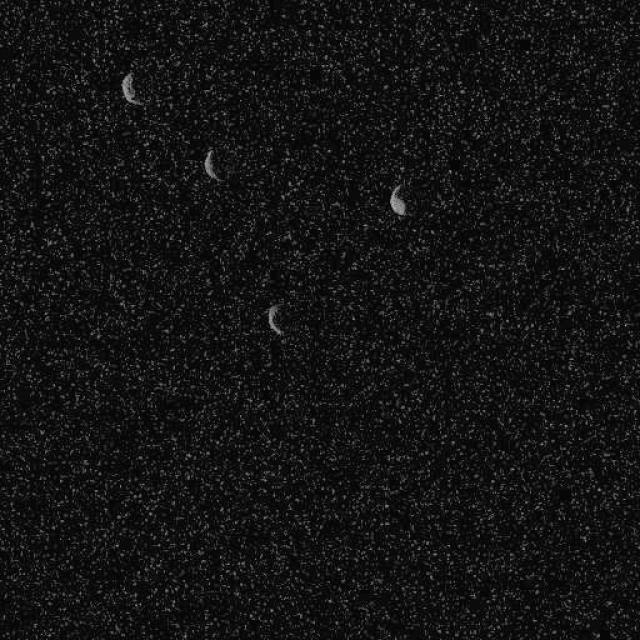D2: (120, 70, 142, 106), (202, 148, 222, 182), (388, 182, 408, 216), (265, 302, 284, 336)
